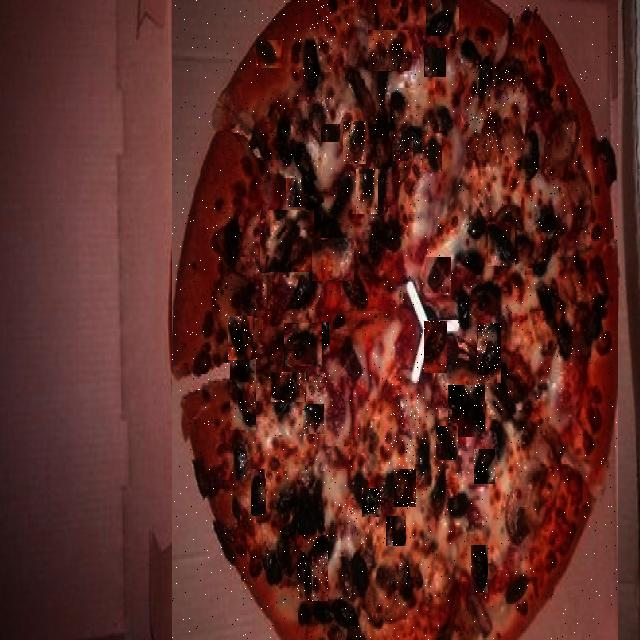Mushrooms: (260, 210, 314, 272), (389, 376, 420, 466), (253, 88, 288, 160), (297, 535, 328, 601), (448, 385, 485, 437), (230, 359, 256, 432), (296, 0, 332, 52), (312, 238, 354, 281), (368, 30, 412, 71), (471, 63, 512, 107), (464, 92, 495, 148), (284, 323, 322, 366), (477, 323, 501, 383), (424, 321, 447, 373), (426, 0, 459, 36), (488, 222, 515, 266), (228, 316, 253, 360), (271, 372, 306, 402), (356, 170, 378, 216), (343, 121, 366, 164), (426, 257, 451, 293), (394, 469, 416, 507), (471, 545, 488, 593), (422, 133, 442, 172), (436, 426, 458, 460), (474, 449, 495, 484), (256, 40, 282, 68), (251, 469, 266, 516), (498, 477, 517, 514), (394, 562, 408, 612), (424, 48, 446, 77), (303, 404, 324, 434), (393, 131, 413, 161), (386, 516, 406, 546), (362, 488, 381, 517), (338, 504, 357, 532), (212, 280, 235, 302), (286, 178, 301, 207), (309, 370, 327, 393), (321, 124, 340, 142), (320, 322, 330, 355)
Pizza: (172, 0, 618, 640)
